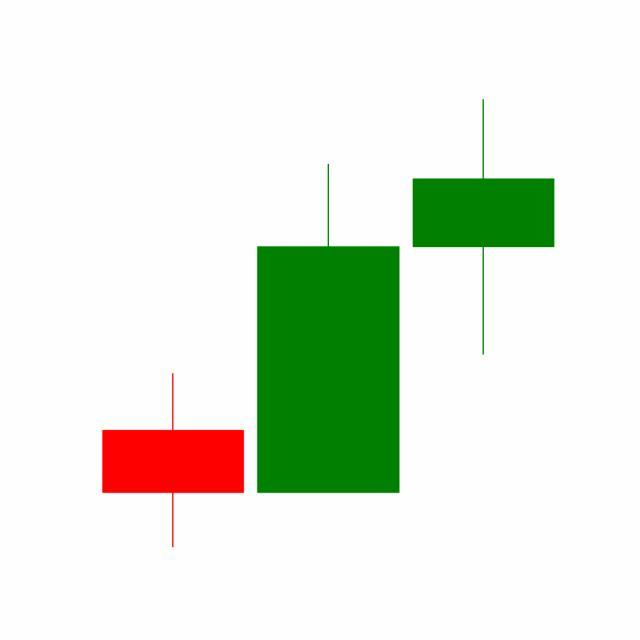Spinning Top: (406, 96, 562, 358)
